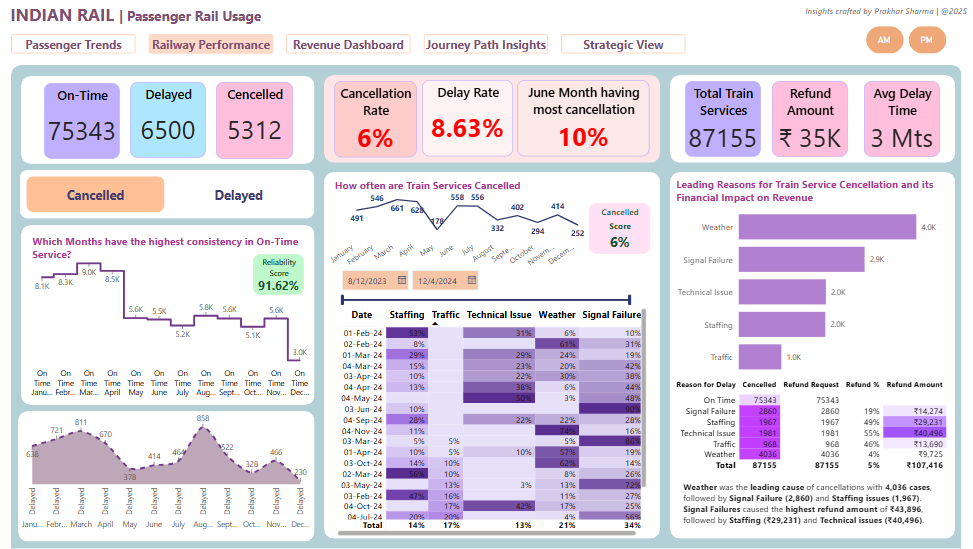

What the dashboard file says about the page in this screenshot:
{"tool":"powerbi","page":{"name":"Railway Performance ","canvas":[1536,864],"ordinal":1},"visuals":[{"type":"shape","box":[20,103.3,1493.3,760],"z":0},{"type":"shape","box":[512,272,528,576],"z":1000},{"type":"textbox","box":[13.7,0.7,900,60.5],"z":2000},{"type":"shape","box":[36.3,121,461.4,138.2],"z":3000},{"type":"advancedSlicerVisual","fields":{"Values":["Train Dataset.Last Characters"]},"box":[1358.2,38,136.5,53.6],"z":4000},{"type":"kpi","title":"On-Time","fields":{"Indicator":["CountNonNull(Train Dataset.Journey Status)"],"TrendLine":["Train Dataset.Journey Status"]},"box":[72.6,131.3,119.2,119.2],"z":5000},{"type":"kpi","title":"Delayed","fields":{"Indicator":["CountNonNull(Train Dataset.Journey Status)"],"TrendLine":["Train Dataset.Journey Status"]},"box":[207.4,129.6,119.2,119.2],"z":6000},{"type":"kpi","title":"Cencelled","fields":{"Indicator":["CountNonNull(Train Dataset.Journey Status)"],"TrendLine":["Train Dataset.Journey Status"]},"box":[342.1,129.6,121,121],"z":7000},{"type":"advancedSlicerVisual","fields":{"Values":["Train Dataset.Journey Status"]},"box":[34,268,462,76],"z":8000},{"type":"shape","box":[35.7,354.3,461.4,282.9],"z":9000},{"type":"lineChart","fields":{"Category":["Train Dataset.Date of Purchase.Variation.Date Hierarchy.Month","Train Dataset.Journey Status"],"Y":["CountNonNull(Train Dataset.Transaction ID)"]},"box":[32,400,464,240],"z":10000},{"type":"textbox","box":[48.4,364.6,449.3,60.5],"z":11000},{"type":"shape","box":[31.7,647.5,465.8,205],"z":12000},{"type":"lineChart","fields":{"Y":["Train Dataset.Delayed Trips Counting"],"Category":["Train Dataset.Date of Purchase.Variation.Date Hierarchy.Month","Train Dataset.Journey Status"]},"box":[32,640,464,208],"z":13000},{"type":"lineChart","fields":{"Category":["Train Dataset.Date of Journey.Variation.Date Hierarchy.Month1"],"Y":["CountNonNull(Train Dataset.Journey Status)"]},"box":[512,288,416,144],"z":14000},{"type":"kpi","title":"Reliability Score","fields":{"Indicator":["Train Dataset.Reliability  (%)"],"TrendLine":["Train Dataset.Route"]},"box":[400,400,80,64],"z":15000},{"type":"kpi","fields":{"TrendLine":["Train Dataset.Date of Journey"],"Indicator":["Train Dataset.Trips Percentage"]},"box":[928,320,96,80],"z":16000},{"type":"pivotTable","fields":{"Rows":["Train Dataset.Date of Journey - Copy"],"Values":["Train Dataset.Staffing %","Train Dataset.Traffic %","Train Dataset.Technical Issue %","Train Dataset.Weather %","Train Dataset.Signal Failure %"]},"box":[528,480,496,368],"z":17000},{"type":"slicer","fields":{"Values":["Train Dataset.Date of Purchase"]},"box":[528,416,480,64],"z":18000},{"type":"shape","box":[1056,272,448,576],"z":19000},{"type":"textbox","box":[1060,275,432,80],"z":20000},{"type":"barChart","fields":{"Y":["CountNonNull(Train Dataset.Transaction ID)"],"Category":["Train Dataset.Reason for Delay"]},"box":[1056,304,432,304],"z":21000},{"type":"pivotTable","fields":{"Rows":["Train Dataset.Reason for Delay"],"Values":["CountNonNull(Train Dataset.Journey Status)","CountNonNull(Train Dataset.Refund Request)","Train Dataset.Refund %","Train Dataset.Refund Amount"]},"box":[1056,592,464,160],"z":22000},{"type":"textbox","box":[1072,752,432,112],"z":23000},{"type":"pageNavigator","box":[20,55.7,1064.3,31.4],"z":24000},{"type":"textbox","box":[1263.2,5.2,269.6,46.7],"z":25000},{"type":"cardVisual","fields":{"Data":["Train Dataset.StatusOfJourney"]},"box":[512,256,528,64],"z":26000},{"type":"shape","box":[1056,120,448,138],"z":27000},{"type":"kpi","title":"Total Train Services","fields":{"TrendLine":["TrainRidesCleaned (3).Journey Status"],"Indicator":["CountNonNull(Train Dataset.Journey Status)"]},"box":[1079,129,119,119],"z":28000},{"type":"kpi","title":"Refund Amount","fields":{"TrendLine":["TrainRidesCleaned (3).Journey Status"],"Indicator":["Train Dataset.Refund Amount"]},"box":[1216,129,119,119],"z":29000},{"type":"kpi","title":"Avg Delay Time","fields":{"Indicator":["Avg(Train Dataset.Delay Group Sort Order)"],"TrendLine":["Train Dataset.Transaction ID"]},"box":[1360,129,119,119],"z":30000},{"type":"shape","box":[512,120,528,138],"z":31000},{"type":"kpi","title":"Cancellation Rate","fields":{"TrendLine":["TrainRidesCleaned (3).Journey Status"],"Indicator":["Train Dataset.Cancelled Trips %"]},"box":[528,129,130,120],"z":32000},{"type":"kpi","title":"Delay Rate","fields":{"Indicator":["Train Dataset.Delayed %"],"TrendLine":["Train Dataset.Journey Status"]},"box":[666,128,143,120],"z":33000},{"type":"kpi","title":"June Month having most cancellation","fields":{"Indicator":["Train Dataset.Cancelled Trips %"],"TrendLine":["Train Dataset.Date of Journey"]},"box":[816,128,208,120],"z":34000}]}

Visuals, with their boxes in screenshot pixels (x1, y1, x2, y2), scaled from the page's 1536x864 canvas onto the 973x549 screenshot:
shape: bbox=[13, 66, 959, 548]
shape: bbox=[324, 173, 659, 539]
textbox: bbox=[9, 0, 579, 39]
shape: bbox=[23, 77, 315, 165]
advancedSlicerVisual - Train Dataset.Last Characters: bbox=[860, 24, 947, 58]
"On-Time" kpi: bbox=[46, 83, 121, 159]
"Delayed" kpi: bbox=[131, 82, 207, 158]
"Cencelled" kpi: bbox=[217, 82, 293, 159]
advancedSlicerVisual - Train Dataset.Journey Status: bbox=[22, 170, 314, 219]
shape: bbox=[23, 225, 315, 405]
lineChart - Train Dataset.Date of Purchase.Variation.Date Hierarchy.Month x Train Dataset.Journey Status: bbox=[20, 254, 314, 407]
textbox: bbox=[31, 232, 315, 270]
shape: bbox=[20, 411, 315, 542]
lineChart - Train Dataset.Delayed Trips Counting x Train Dataset.Date of Purchase.Variation.Date Hierarchy.Month: bbox=[20, 407, 314, 539]
lineChart - Train Dataset.Date of Journey.Variation.Date Hierarchy.Month1 x CountNonNull(Train Dataset.Journey Status): bbox=[324, 183, 588, 274]
"Reliability Score" kpi: bbox=[253, 254, 304, 295]
kpi - Train Dataset.Date of Journey x Train Dataset.Trips Percentage: bbox=[588, 203, 649, 254]
pivotTable - Train Dataset.Date of Journey - Copy x Train Dataset.Staffing %: bbox=[334, 305, 649, 539]
slicer - Train Dataset.Date of Purchase: bbox=[334, 264, 639, 305]
shape: bbox=[669, 173, 953, 539]
textbox: bbox=[671, 175, 945, 226]
barChart - CountNonNull(Train Dataset.Transaction ID) x Train Dataset.Reason for Delay: bbox=[669, 193, 943, 386]
pivotTable - Train Dataset.Reason for Delay x CountNonNull(Train Dataset.Journey Status): bbox=[669, 376, 963, 478]
textbox: bbox=[679, 478, 953, 548]
pageNavigator: bbox=[13, 35, 687, 55]
textbox: bbox=[800, 3, 971, 33]
cardVisual - Train Dataset.StatusOfJourney: bbox=[324, 163, 659, 203]
shape: bbox=[669, 76, 953, 164]
"Total Train Services" kpi: bbox=[684, 82, 759, 158]
"Refund Amount" kpi: bbox=[770, 82, 846, 158]
"Avg Delay Time" kpi: bbox=[862, 82, 937, 158]
shape: bbox=[324, 76, 659, 164]
"Cancellation Rate" kpi: bbox=[334, 82, 417, 158]
"Delay Rate" kpi: bbox=[422, 81, 512, 158]
"June Month having most cancellation" kpi: bbox=[517, 81, 649, 158]
